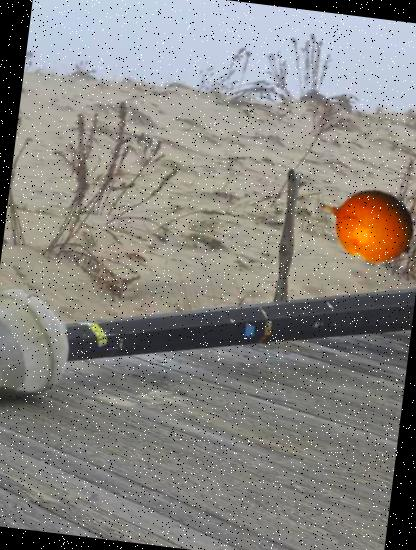Granadilla: (311, 168, 416, 279)
